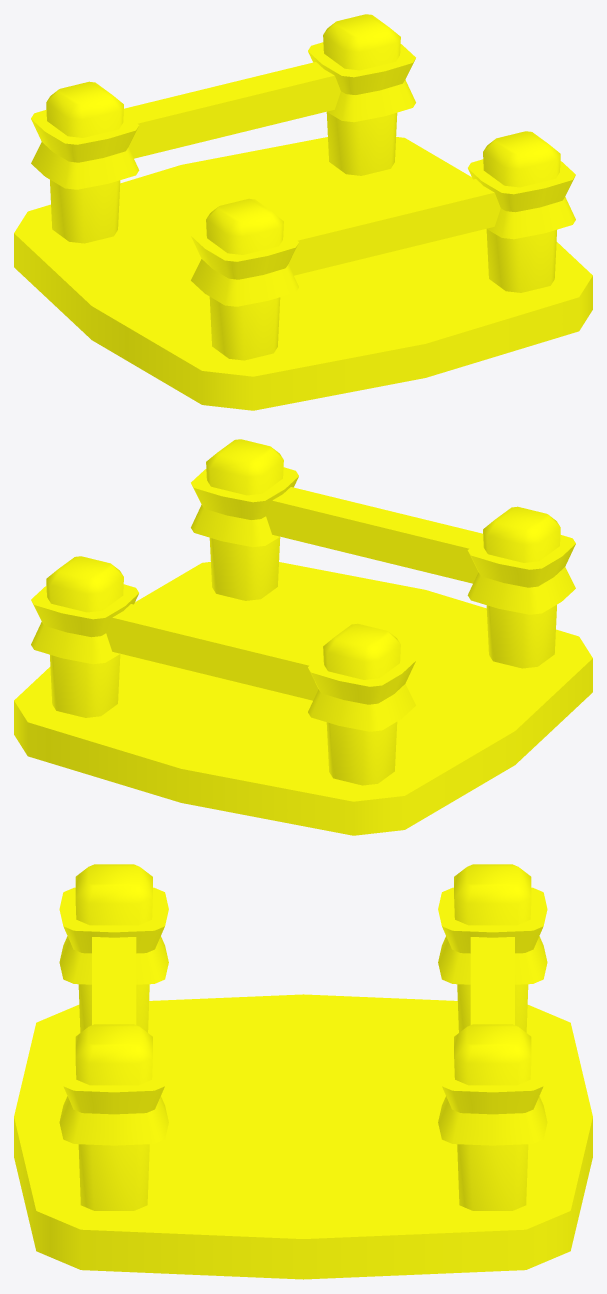
File: 建筑构件_建筑_平台.glb
The picture shows the model from 3 angles, top to bottom: view 1: azimuth 30°, elevation 25°; view 2: azimuth 150°, elevation 25°; view 3: azimuth 270°, elevation 25°; orthographic projection. The views are drawn at different scales.
Parts seen in each view (by area): view 1: building-platform; view 2: building-platform; view 3: building-platform.
Boxes of the visible parts, x1,y1,x2,y2 form: building-platform: [14, 14, 592, 410]; building-platform: [14, 439, 592, 835]; building-platform: [14, 864, 592, 1279].
Size of the model in its own units: 1.3 by 0.5 by 1.3.
1 material, 1 textured.
